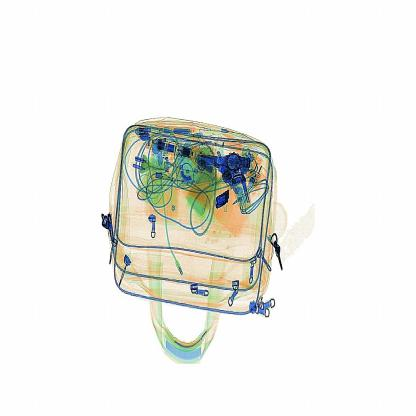knife: (208, 178, 239, 223)
